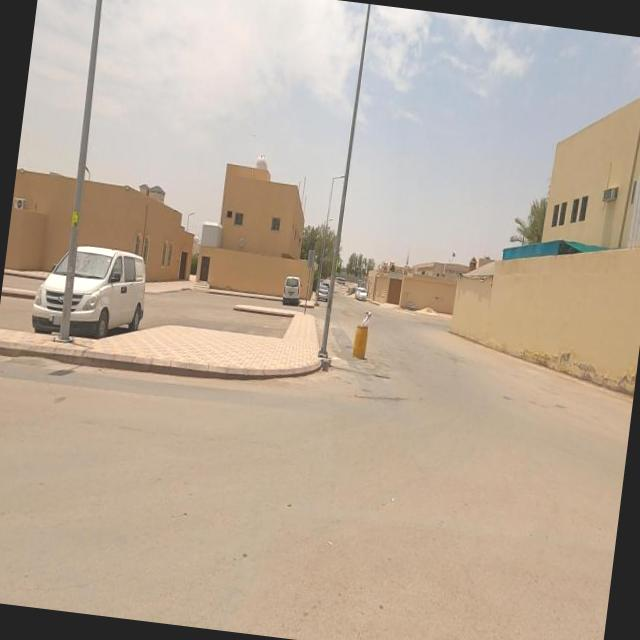debris: (326, 259, 408, 392)
